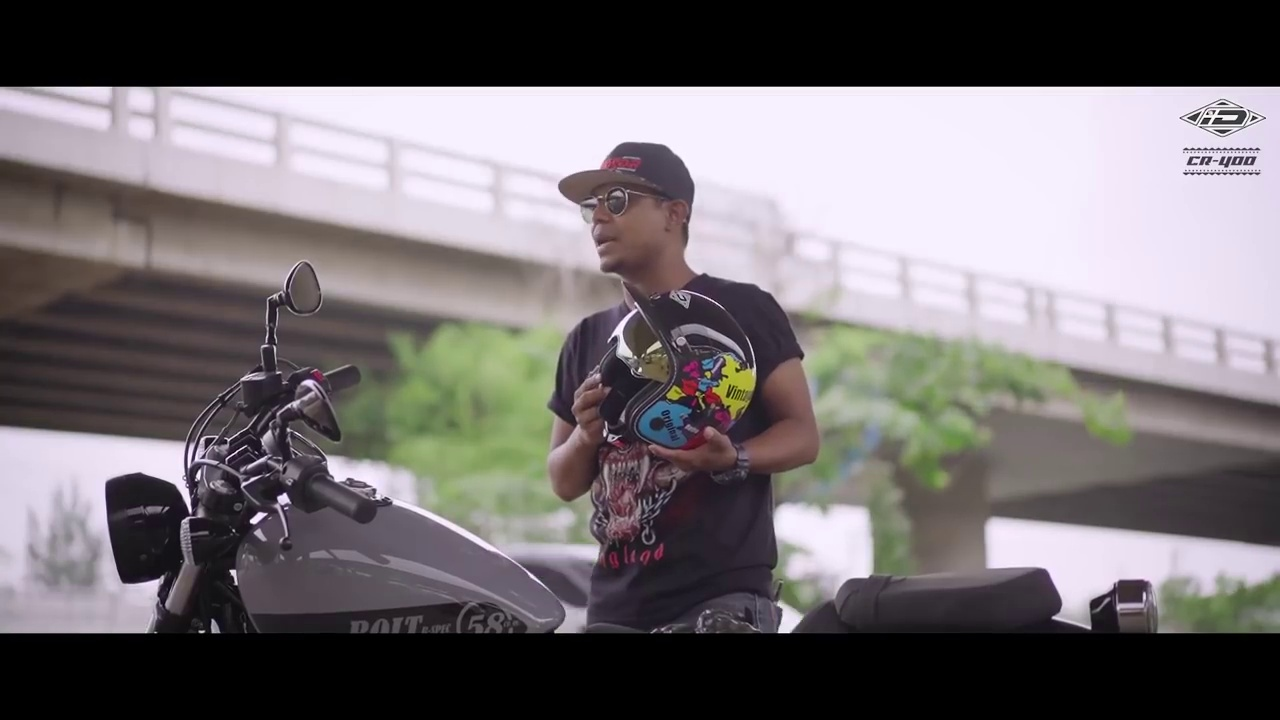helmet: (594, 278, 753, 453)
